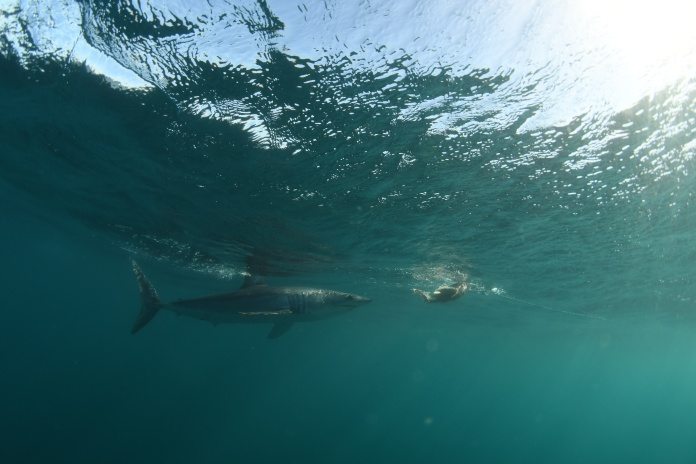Mako: (114, 254, 376, 348)
